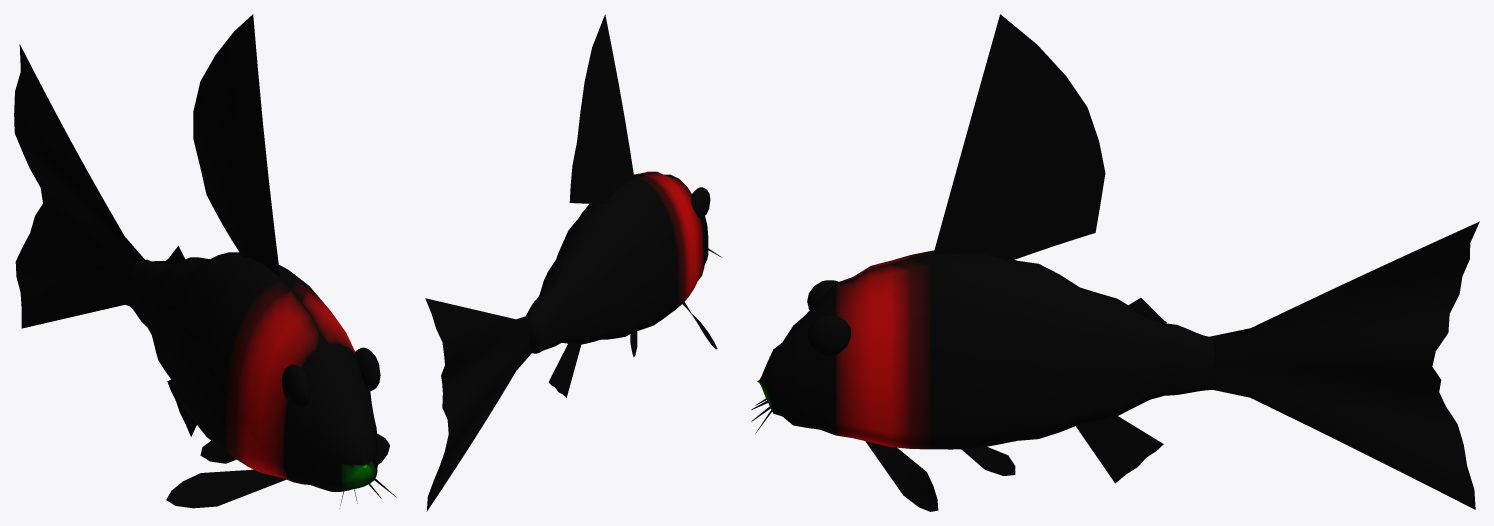
The model's file is corydoras-paleatus-longfin.glb.
3 views of the same model, side by side, from view 1: azimuth 30°, elevation 25°; view 2: azimuth 150°, elevation 25°; view 3: azimuth 270°, elevation 25° (orthographic). The views are drawn at different scales.
Visible parts, largest first — view 1: cpaleatusl_body, cpaleatusl_caudal, cpaleatusl_dorsal, cpaleatusl_pectoralL, cpaleatusl_eyeL, cpaleatusl_eyeR, cpaleatusl_pelvicL; view 2: cpaleatusl_body, cpaleatusl_caudal, cpaleatusl_dorsal, cpaleatusl_anal, cpaleatusl_eyeL; view 3: cpaleatusl_body, cpaleatusl_caudal, cpaleatusl_dorsal, cpaleatusl_anal, cpaleatusl_pectoralR, cpaleatusl_eyeR, cpaleatusl_pelvicR.
Boxes of the visible parts, x1,y1,x2,y2 form: cpaleatusl_body: (127, 252, 377, 491); cpaleatusl_caudal: (14, 44, 145, 328); cpaleatusl_dorsal: (193, 14, 280, 277); cpaleatusl_pectoralL: (166, 469, 286, 508); cpaleatusl_eyeL: (281, 364, 310, 408); cpaleatusl_eyeR: (355, 347, 380, 391); cpaleatusl_pelvicL: (200, 441, 236, 463); cpaleatusl_body: (526, 171, 708, 353); cpaleatusl_caudal: (425, 298, 531, 511); cpaleatusl_dorsal: (569, 14, 634, 203); cpaleatusl_anal: (549, 343, 580, 397); cpaleatusl_eyeL: (691, 187, 710, 218); cpaleatusl_body: (757, 250, 1214, 449); cpaleatusl_caudal: (1208, 221, 1479, 509); cpaleatusl_dorsal: (933, 14, 1105, 261); cpaleatusl_anal: (1076, 416, 1163, 483); cpaleatusl_pectoralR: (865, 441, 938, 511); cpaleatusl_eyeR: (807, 315, 850, 356); cpaleatusl_pelvicR: (961, 446, 1015, 475).
Bounding box in the file's own units: 0.5785 × 1.2 × 1.6.
